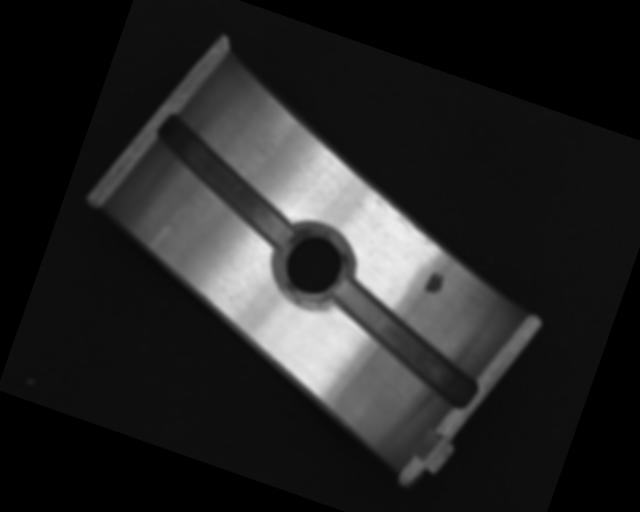blot: (422, 269, 447, 299)
gap: (133, 111, 318, 253), (314, 273, 497, 411)
hole: (268, 221, 356, 316)
